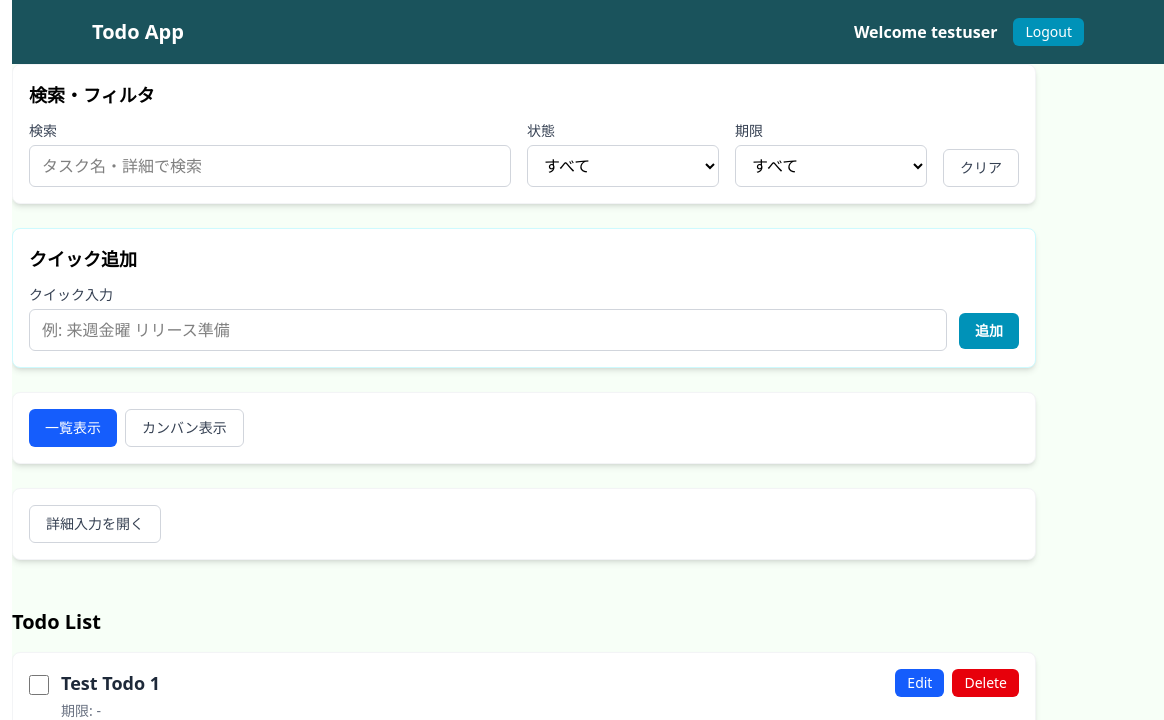
DashboardPage › 詳細フォーム › デフォルトで閉じており、トグルで表示/非表示を切り替えられる
This screenshot has width=1164, height=720.
Expected: the heading "Test Todo 1" is shown, [61,669,160,697]
Expected: the field labelled "Task" is not shown
Click the button "詳細入力を開く": (95, 524) [29,505,161,543]
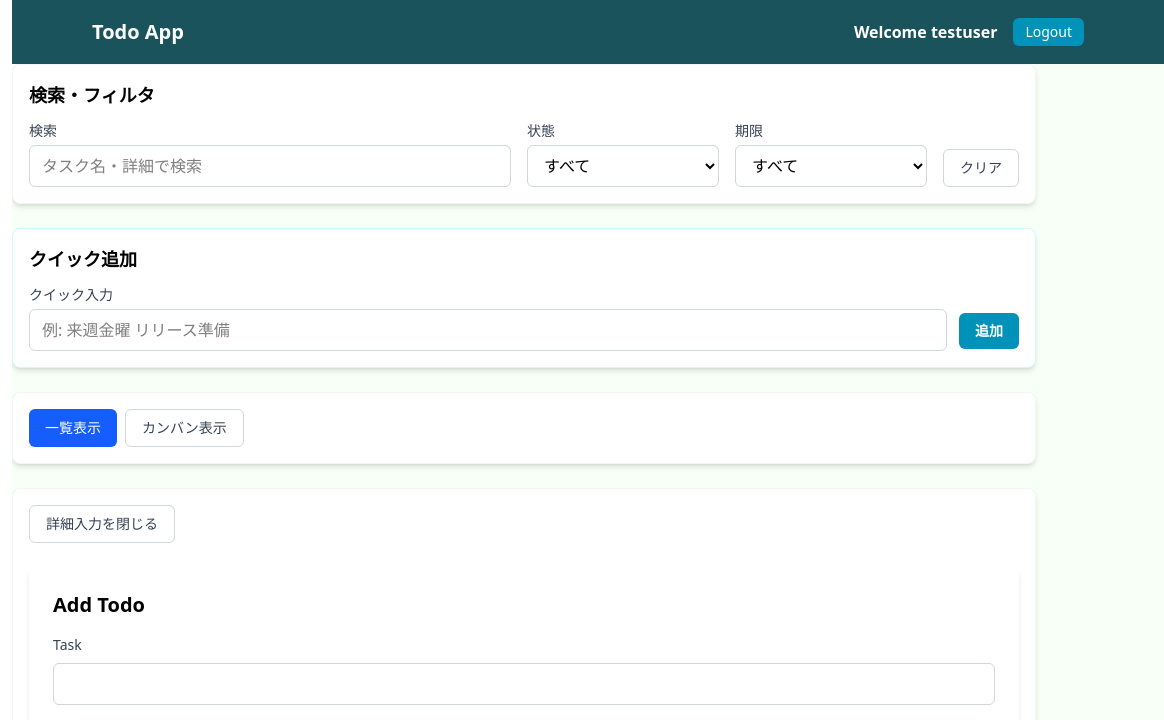
Now the field labelled "Task" is shown, box [53,663,995,705]
Click the button "詳細入力を閉じる": (102, 524) [29,505,175,543]
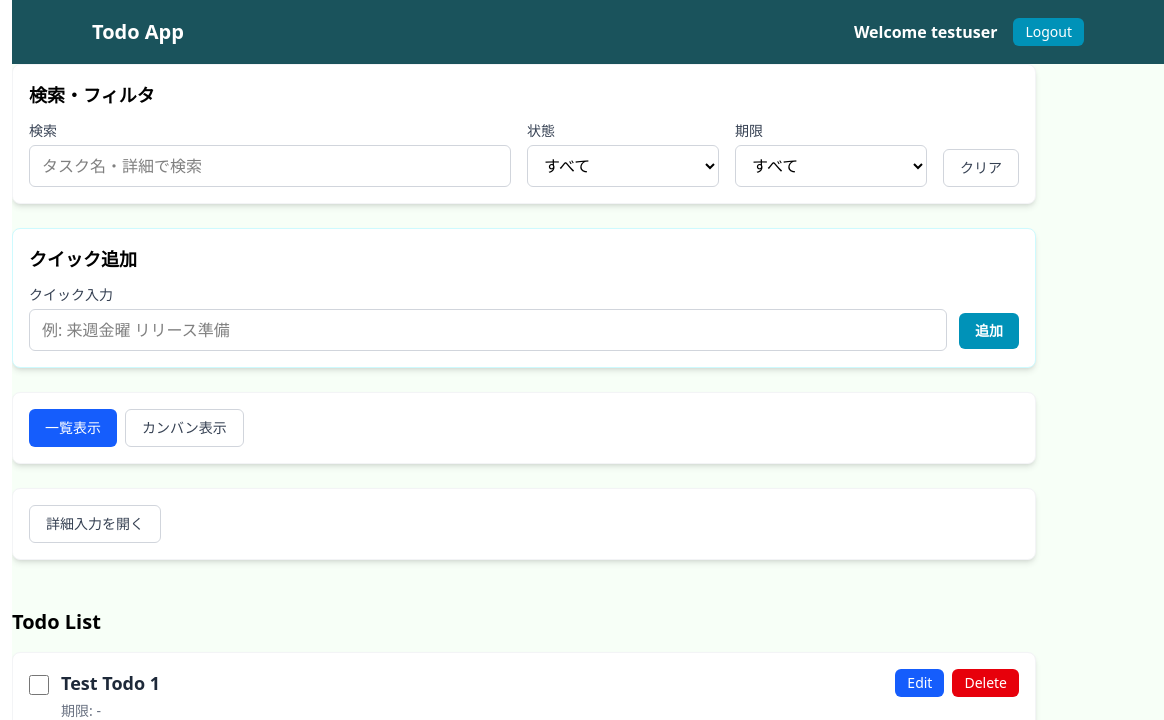
Now the label labelled "Task" is gone
